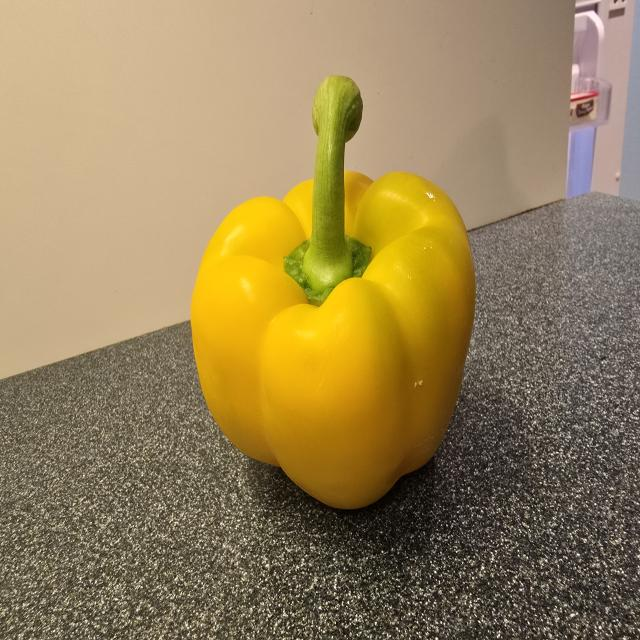Bell Pepper: (191, 76, 475, 508)
